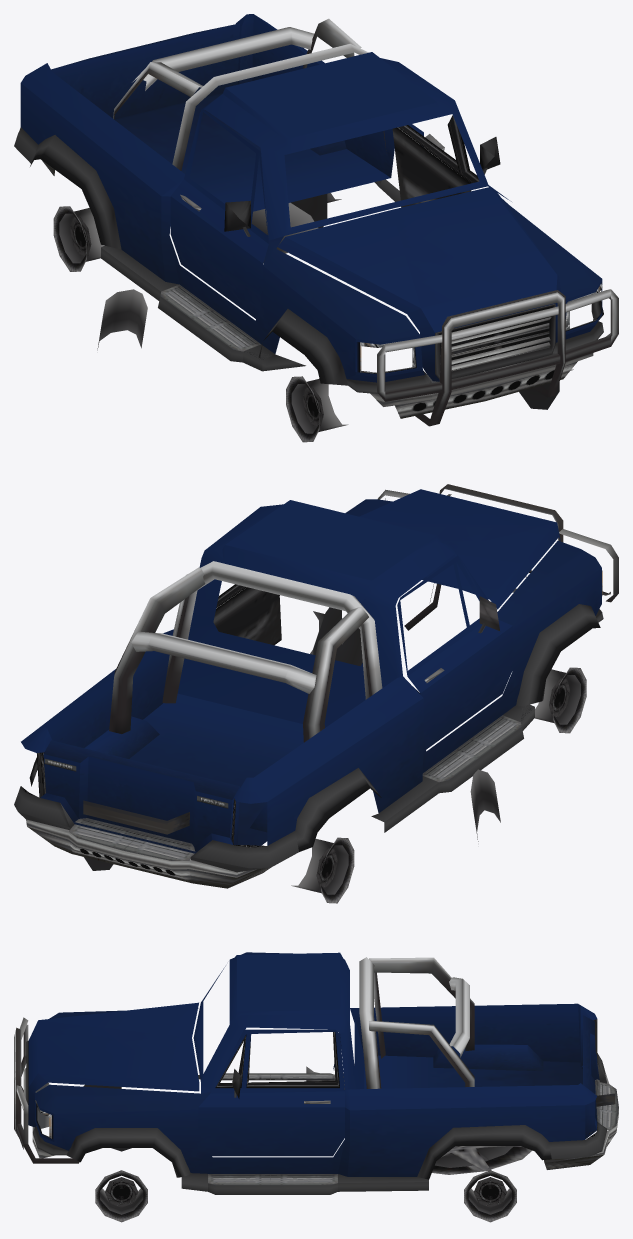
Rendered from car-HEVY_Car2.glb.
3 views of the same model, one above another, from view 1: azimuth 30°, elevation 25°; view 2: azimuth 150°, elevation 25°; view 3: azimuth 270°, elevation 25° (orthographic). The views are drawn at different scales.
Parts seen in each view (by area): view 1: HEVY_Car2; view 2: HEVY_Car2; view 3: HEVY_Car2.
Boxes of the visible parts, x1=… form: HEVY_Car2: x1=14, y1=14, x2=618, y2=442; HEVY_Car2: x1=14, y1=484, x2=618, y2=903; HEVY_Car2: x1=14, y1=952, x2=618, y2=1222.
Bounding box in the file's own units: 2.42 × 1.79 × 4.61.
13 materials, 13 textured.
